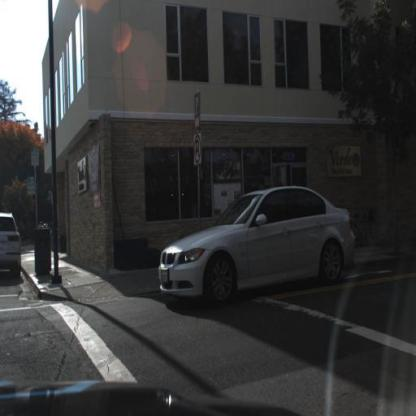car: (160, 180, 356, 307)
